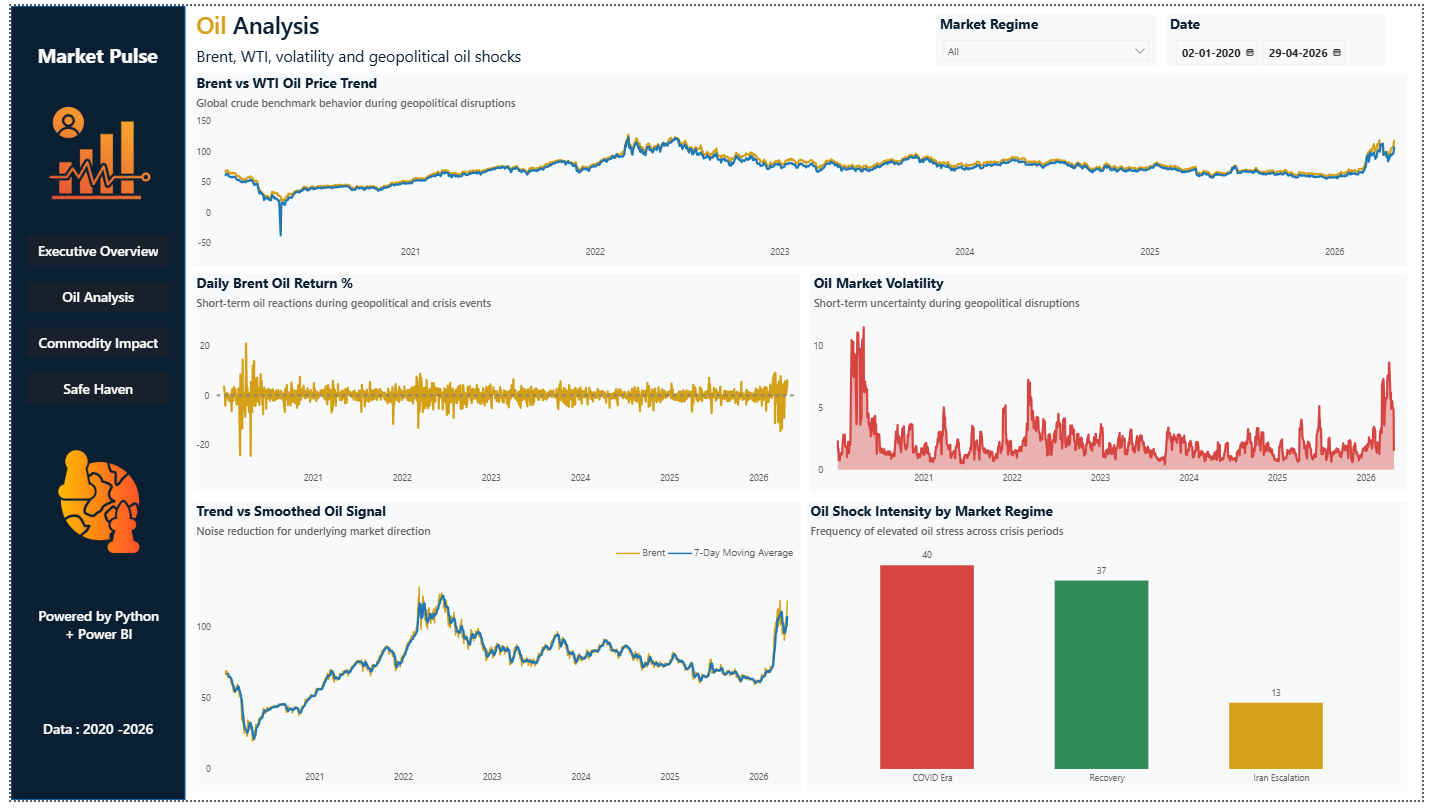

This screenshot's page, from the dashboard's own definition file:
{"tool":"powerbi","page":{"name":"Page 2","canvas":[1920,1080],"ordinal":1},"visuals":[{"type":"textbox","box":[247.1,7.1,740,80],"z":0},{"type":"slicer","title":"Market Regime","fields":{"Values":["master_market_features.Market_Regime"]},"box":[1258.6,11.4,300,70],"z":1000},{"type":"slicer","title":"Date","fields":{"Values":["master_market_features.Date"]},"box":[1571.4,11.4,300,70],"z":2000},{"type":"lineChart","title":"Brent vs WTI Oil Price Trend","fields":{"Category":["master_market_features.Date"],"Y":["Avg(master_market_features.Brent)","Avg(master_market_features.WTI)"]},"box":[247.1,91.4,1652.9,261.4],"z":3000},{"type":"lineChart","title":"Daily Brent Oil Return %","fields":{"Category":["master_market_features.Date"],"Y":["Avg(master_market_features.Brent_Return)"]},"box":[247.1,364.3,827.1,297.1],"z":4000},{"type":"areaChart","title":"Oil Market Volatility","fields":{"Category":["master_market_features.Date"],"Y":["Avg(master_market_features.Brent_Volatility)"]},"box":[1087.1,364.3,812.9,297.1],"z":5000},{"type":"lineChart","title":"Trend vs Smoothed Oil Signal","fields":{"Category":["master_market_features.Date"],"Y":["Avg(master_market_features.Brent)","Avg(master_market_features.Brent_MA7)"]},"box":[247.1,674.3,827.1,394.3],"z":6000},{"type":"clusteredColumnChart","title":"Oil Shock Intensity by Market Regime","fields":{"Category":["shock_summary.Market_Regime"],"Y":["Sum(shock_summary.Shock_Days)"]},"box":[1082.9,674.3,817.1,394.3],"z":7000},{"type":"shape","box":[0,0,237.1,1080],"z":8000},{"type":"textbox","box":[8.6,44.3,218.6,85.7],"z":9000},{"type":"image","box":[35.7,130,170,140],"z":10000},{"type":"actionButton","box":[22.9,312.9,191.4,40],"z":11000},{"type":"actionButton","box":[22.9,375.7,191.4,40],"z":12000},{"type":"actionButton","box":[22.9,437.1,191.4,40],"z":13000},{"type":"actionButton","box":[22.9,500,191.4,40],"z":14000},{"type":"image","box":[34.3,604.3,170,140],"z":15000},{"type":"textbox","box":[24.3,811.4,190,71.4],"z":16000},{"type":"textbox","box":[32.9,965.7,171.4,48.6],"z":17000}]}

Visuals, with their boxes on the page's 1920x1080 design canvas (x1, y1, x2, y2). These are canvas units, not pixel positions in the 1431x812 screenshot, which may show the page scaled, cropped or inside an application window:
textbox: box=[247, 7, 987, 87]
"Market Regime" slicer: box=[1259, 11, 1559, 81]
"Date" slicer: box=[1571, 11, 1871, 81]
"Brent vs WTI Oil Price Trend" lineChart: box=[247, 91, 1900, 353]
"Daily Brent Oil Return %" lineChart: box=[247, 364, 1074, 661]
"Oil Market Volatility" areaChart: box=[1087, 364, 1900, 661]
"Trend vs Smoothed Oil Signal" lineChart: box=[247, 674, 1074, 1069]
"Oil Shock Intensity by Market Regime" clusteredColumnChart: box=[1083, 674, 1900, 1069]
shape: box=[0, 0, 237, 1080]
textbox: box=[9, 44, 227, 130]
image: box=[36, 130, 206, 270]
actionButton: box=[23, 313, 214, 353]
actionButton: box=[23, 376, 214, 416]
actionButton: box=[23, 437, 214, 477]
actionButton: box=[23, 500, 214, 540]
image: box=[34, 604, 204, 744]
textbox: box=[24, 811, 214, 883]
textbox: box=[33, 966, 204, 1014]
